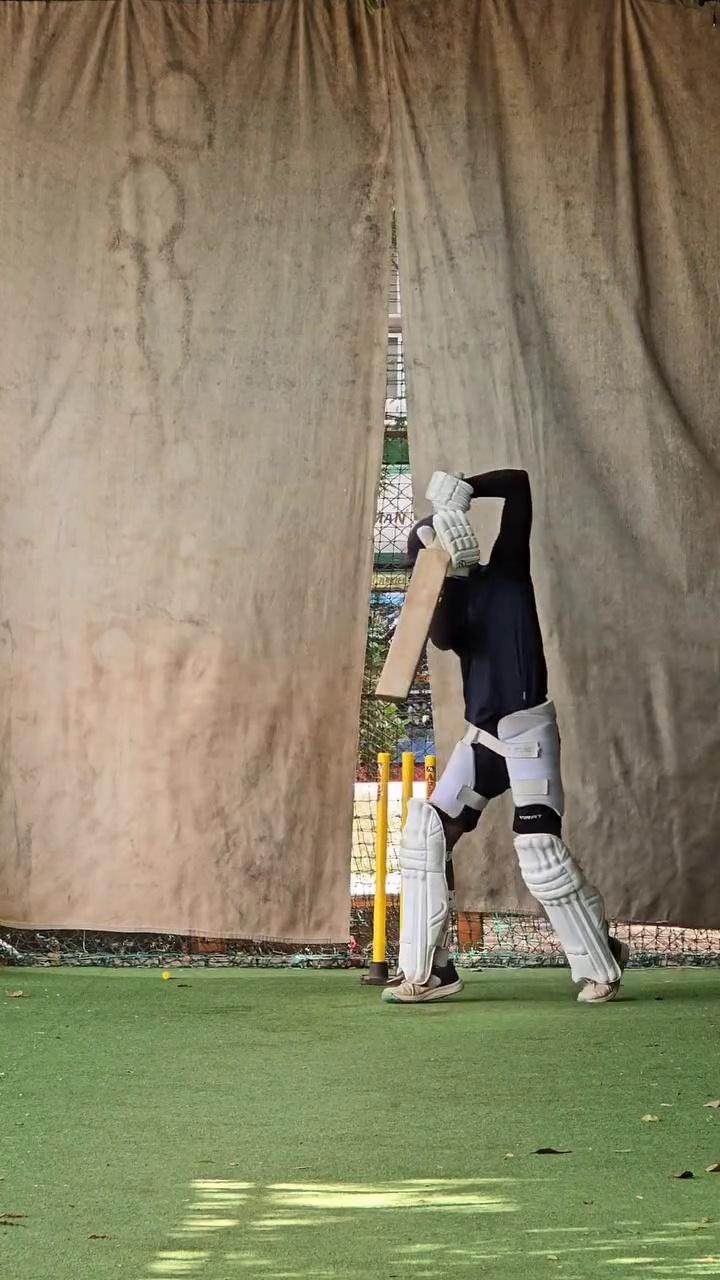bat: (370, 540, 455, 711)
